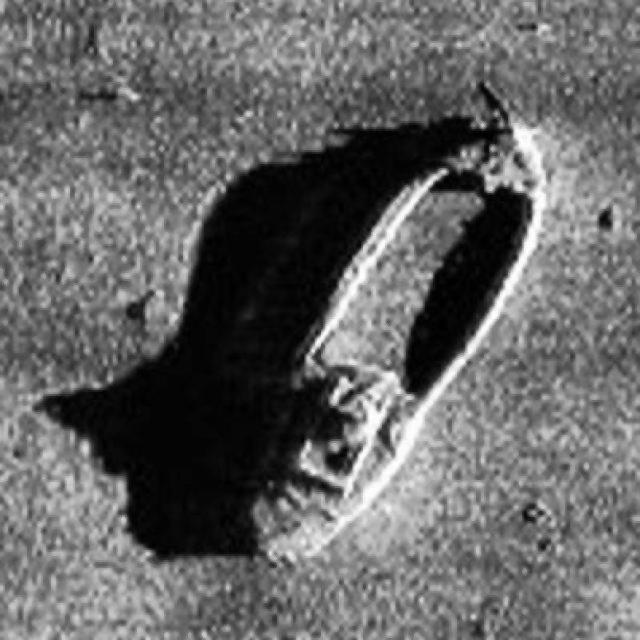Ship: (231, 73, 553, 574)
